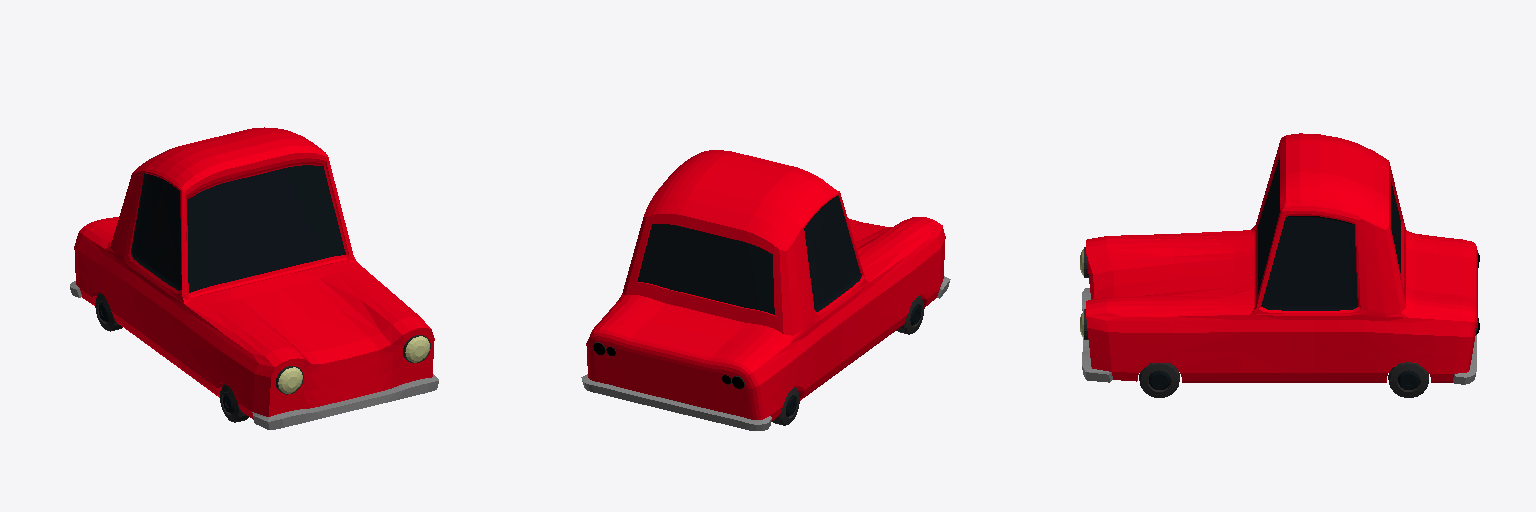
File: toon_car.obj
3 renders of one model, left to right at view 1: azimuth 30°, elevation 25°; view 2: azimuth 150°, elevation 25°; view 3: azimuth 270°, elevation 25°, orthographic.
Visible parts, largest first — view 1: group1 polySurface6, group1 polySurface2, group1 pCylinder1, group1 pCylinder2, group1 pCylinder6, group1 pCylinder7; view 2: group1 polySurface6, polySurface4 group1, group1 pCylinder6, group1 pCylinder7; view 3: group1 polySurface6, group1 pCylinder5, group1 pCylinder8, group1 polySurface2.
Part boxes in pixels (left/top/right/bottom): group1 polySurface6: left=74, top=127, right=434, bottom=419; group1 polySurface2: left=252, top=374, right=438, bottom=429; group1 pCylinder1: left=403, top=335, right=430, bottom=363; group1 pCylinder2: left=276, top=366, right=303, bottom=394; group1 pCylinder6: left=220, top=384, right=248, bottom=422; group1 pCylinder7: left=95, top=293, right=122, bottom=331; group1 polySurface6: left=586, top=150, right=945, bottom=421; polySurface4 group1: left=581, top=374, right=771, bottom=430; group1 pCylinder6: left=896, top=296, right=924, bottom=334; group1 pCylinder7: left=772, top=387, right=799, bottom=425; group1 polySurface6: left=1086, top=133, right=1477, bottom=382; group1 pCylinder5: left=1139, top=363, right=1179, bottom=397; group1 pCylinder8: left=1388, top=362, right=1428, bottom=397; group1 polySurface2: left=1082, top=288, right=1112, bottom=382.
Bounding box in the file's own units: 10.25 × 10.53 × 18.97.